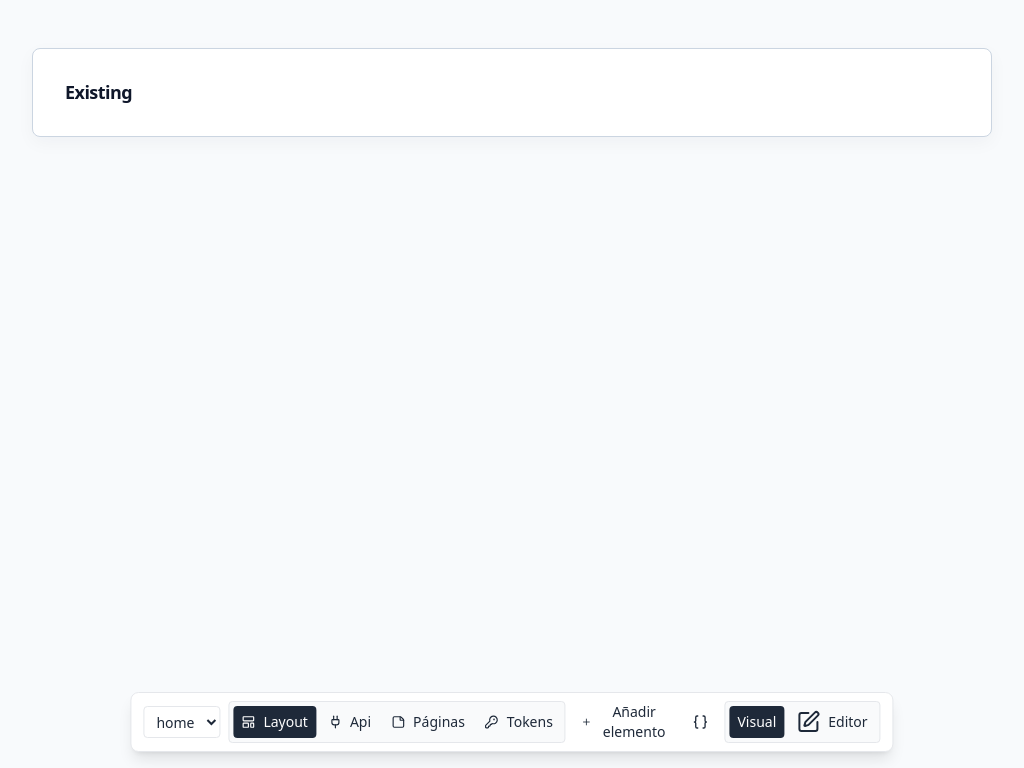
Test: LayoutCanvasNodePalette: lists the full catalog (FR8) › renders a draggable entry for every supported node type, always visible without a selection
What coordinates should you click on to do the following:
click the button with test id "dev-editor-toolbar-mode-editor"
I would click on:
 (832, 722)
Its box is [788,706,876,738].
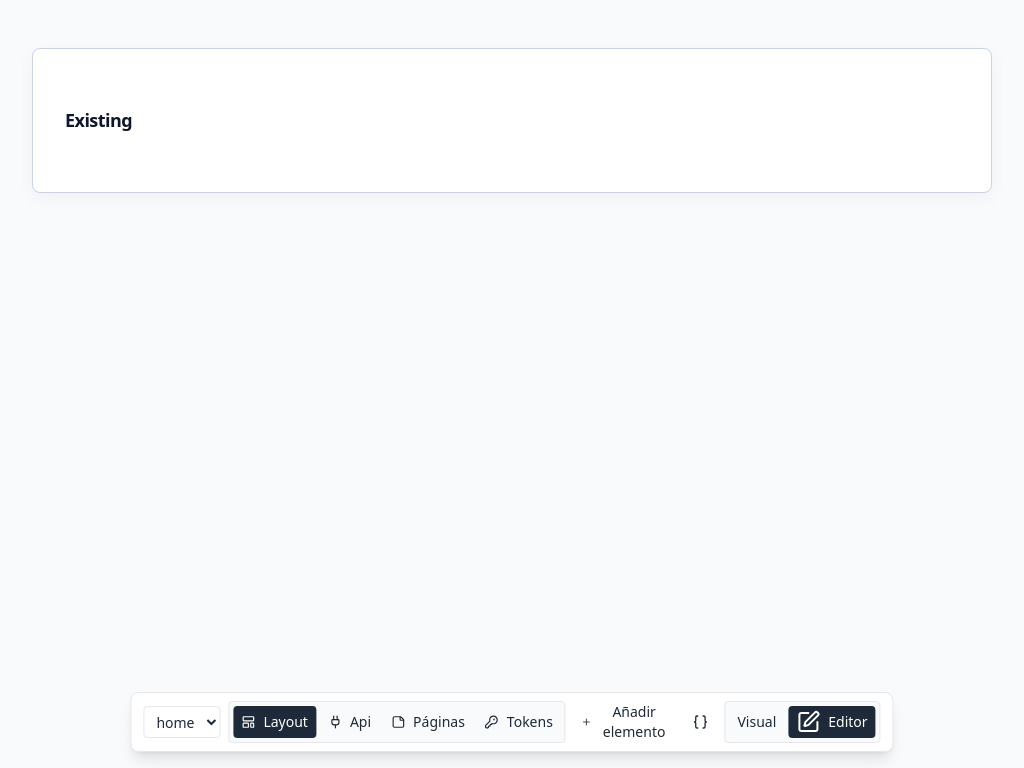
What coordinates should you click on to do the following:
click the button with test id "dev-editor-toolbar-palette-toggle"
I would click on:
 (625, 722)
Its box is [574,706,676,738].
(page scrolled)
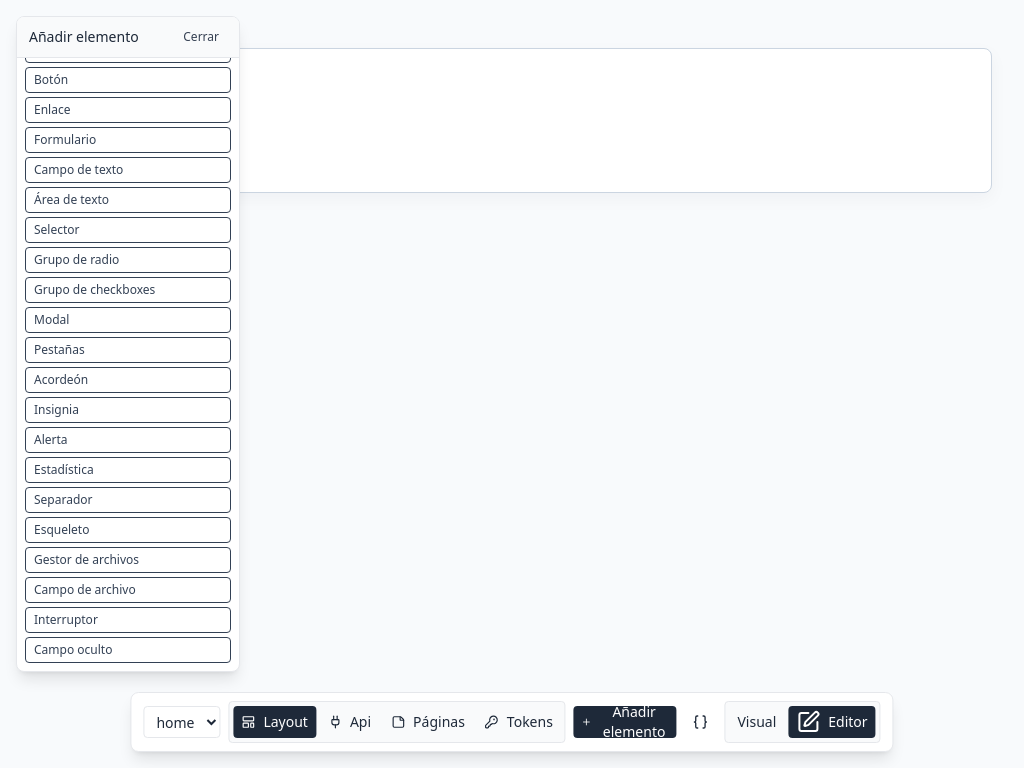
Check: the element with test id "layout-canvas-node-palette" is shown, box [17,58,239,671]
